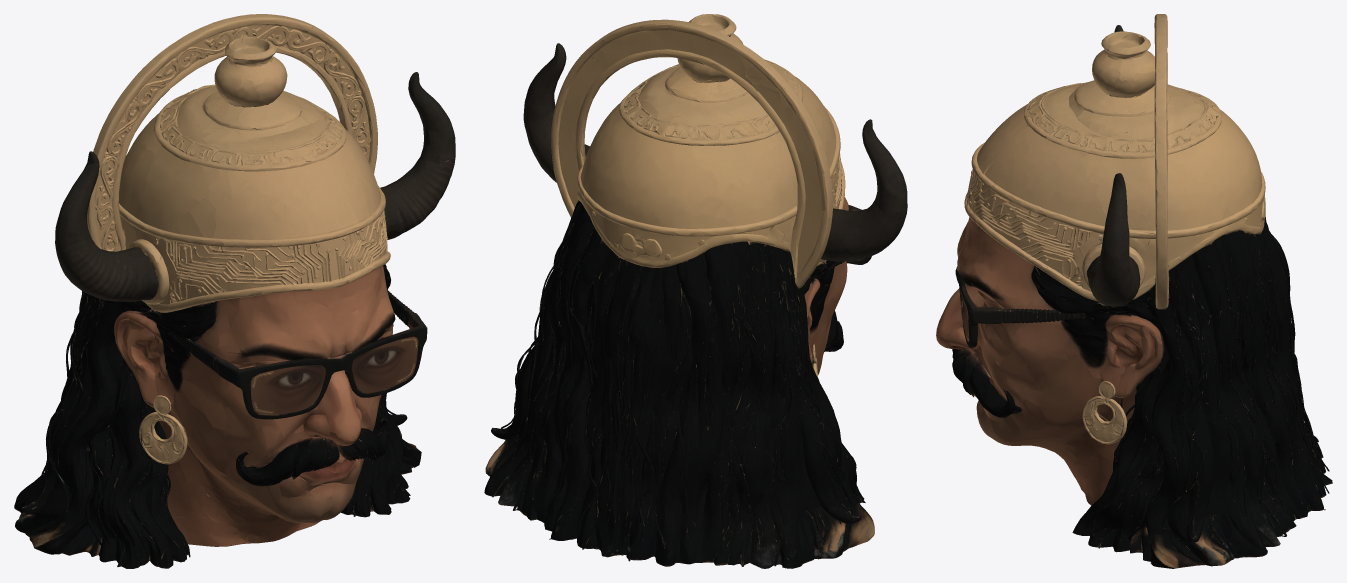
Rendered from head-engineer.glb.
3 renders of one model, left to right at view 1: azimuth 30°, elevation 25°; view 2: azimuth 150°, elevation 25°; view 3: azimuth 270°, elevation 25°, orthographic. The views are drawn at different scales.
Visible parts, largest first — view 1: mesh_node; view 2: mesh_node; view 3: mesh_node.
Part boxes in pixels (<box>): mesh_node: <box>14,14,455,568</box>; mesh_node: <box>484,14,907,568</box>; mesh_node: <box>936,14,1332,568</box>.
Bounding box in the file's own units: 1.62 × 1.9 × 1.5.
Materials: 1 (1 with a texture image).
